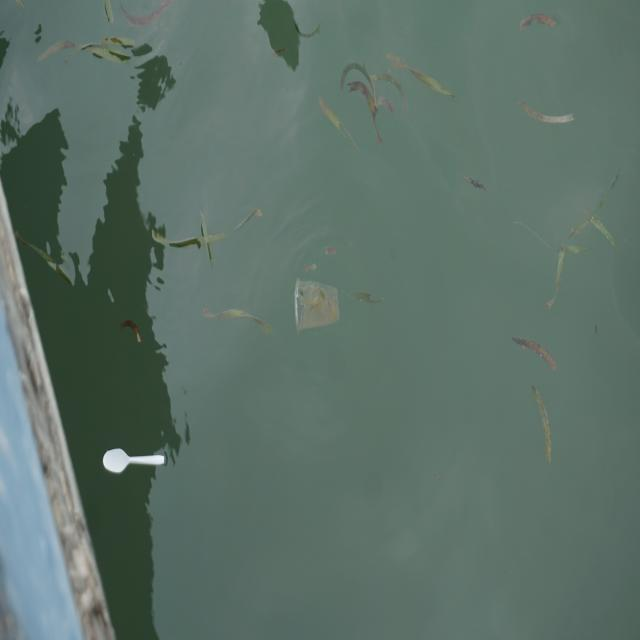Bungkus Minuman: (292, 275, 346, 334)
